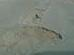pothole: (13, 23, 61, 52), (32, 11, 44, 22)
